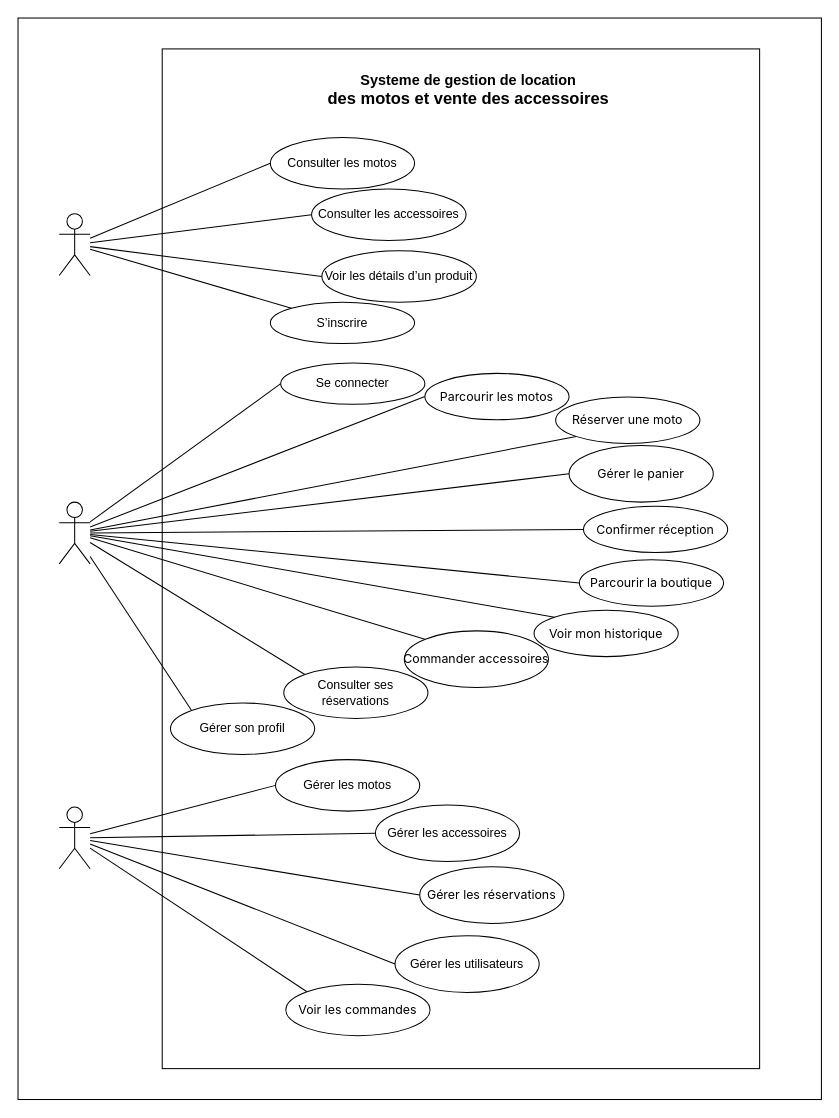
This 839x1118 diagram has some shape labels left out. Each missing label, with the centre of its shape:
"Administrateur" belongs at pixel 74 837.
"Client" belongs at pixel 74 532.
"Visiteur" belongs at pixel 74 244.
